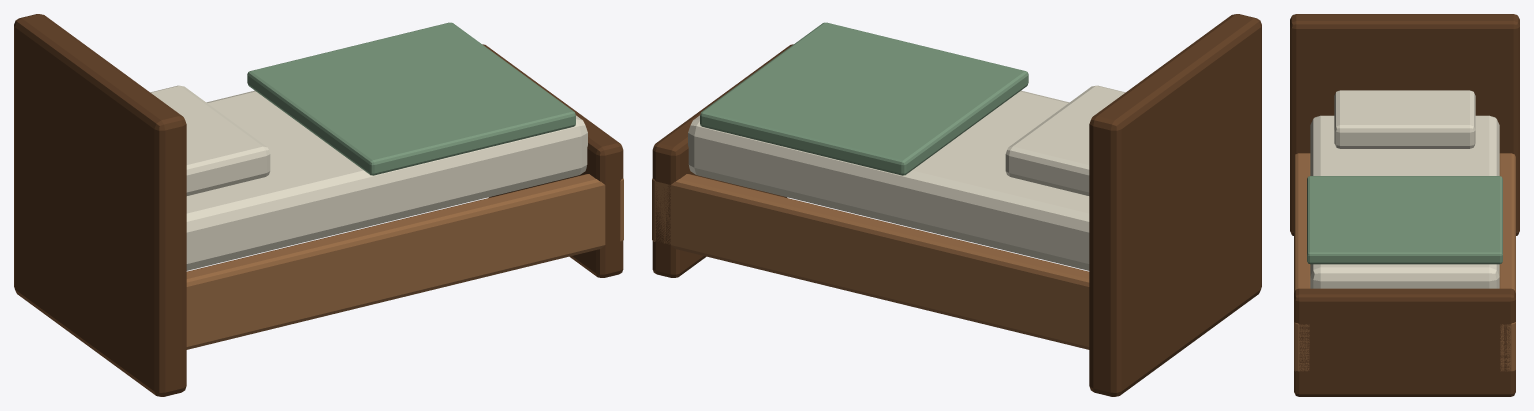
File: bed_single_2p1x1p1.glb
The picture shows the model from 3 angles, left to right: view 1: azimuth 30°, elevation 25°; view 2: azimuth 150°, elevation 25°; view 3: azimuth 270°, elevation 25°; orthographic projection. The views are drawn at different scales.
Parts seen in each view (by area): view 1: bed_head, bed_left_rail, bed_blanket, bed_mattress, bed_pillow, bed_foot; view 2: bed_head, bed_right_rail, bed_blanket, bed_mattress, bed_pillow, bed_foot; view 3: bed_foot, bed_head, bed_blanket, bed_mattress, bed_pillow, bed_left_rail, bed_right_rail.
Part boxes in pixels (left/top/right/bottom): bed_head: left=14, top=14, right=186, bottom=396; bed_left_rail: left=186, top=174, right=623, bottom=349; bed_blanket: left=247, top=22, right=575, bottom=175; bed_mattress: left=186, top=90, right=587, bottom=270; bed_pillow: left=150, top=85, right=270, bottom=195; bed_foot: left=482, top=44, right=623, bottom=277; bed_head: left=1089, top=14, right=1261, bottom=396; bed_right_rail: left=652, top=174, right=1089, bottom=349; bed_blanket: left=700, top=22, right=1028, bottom=175; bed_mattress: left=688, top=90, right=1089, bottom=270; bed_pillow: left=1005, top=85, right=1125, bottom=195; bed_foot: left=652, top=44, right=793, bottom=277; bed_foot: left=1294, top=288, right=1515, bottom=396; bed_head: left=1290, top=14, right=1519, bottom=235; bed_blanket: left=1307, top=176, right=1502, bottom=264; bed_mattress: left=1310, top=115, right=1499, bottom=288; bed_pillow: left=1334, top=90, right=1475, bottom=148; bed_left_rail: left=1294, top=153, right=1310, bottom=371; bed_right_rail: left=1499, top=153, right=1515, bottom=371.
Bounding box in the file's own units: 2.1 × 1.18 × 1.14.
